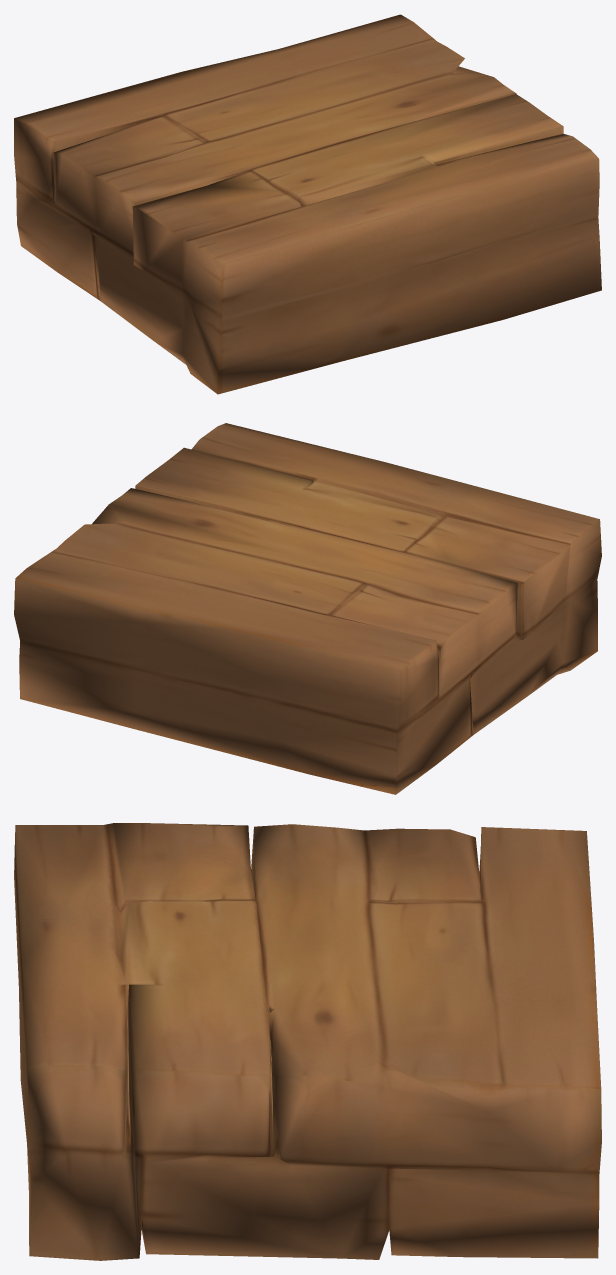
File: tripo_convert_08f76255-2a3f-424e-bfcf-ae7482217020.fbx
3 views of the same model, one above another, from view 1: azimuth 30°, elevation 25°; view 2: azimuth 150°, elevation 25°; view 3: azimuth 270°, elevation 25° (orthographic). The views are drawn at different scales.
Visible parts, largest first — view 1: tripo_node_08f76255; view 2: tripo_node_08f76255; view 3: tripo_node_08f76255.
Part boxes in pixels (x1=…): tripo_node_08f76255: x1=14, y1=14, x2=601, y2=394; tripo_node_08f76255: x1=14, y1=423, x2=601, y2=794; tripo_node_08f76255: x1=14, y1=823, x2=601, y2=1260.
Size of the model in its own units: 0.9763 by 0.344 by 0.9064.
Materials: 1 (1 with a texture image).
